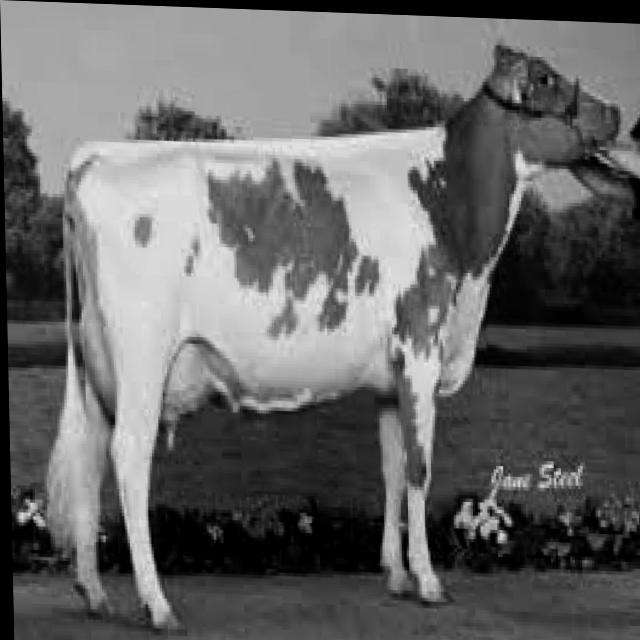Cow: (29, 21, 639, 640)
